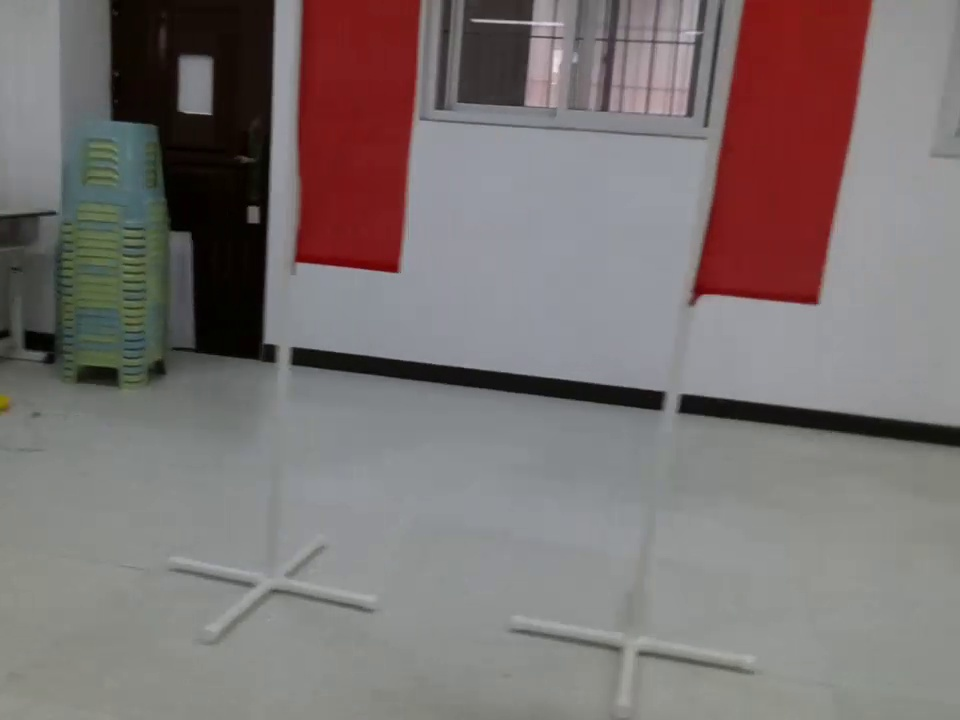qi: (678, 1, 887, 314), (257, 2, 435, 285)
